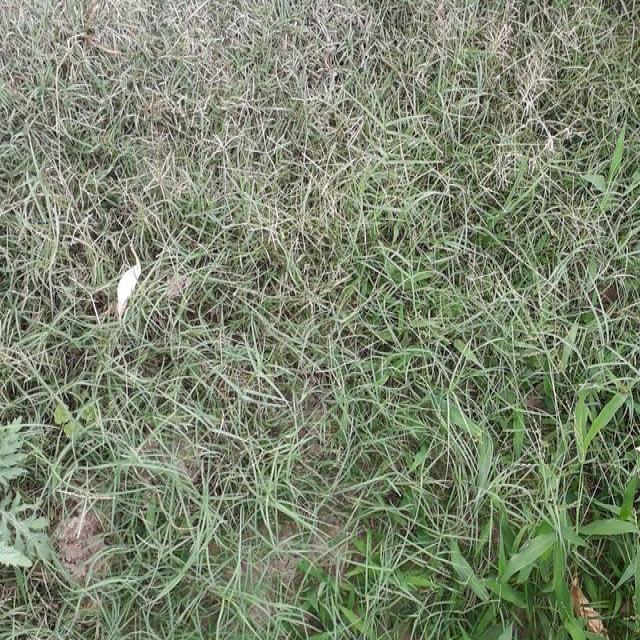weed: (282, 382, 640, 640), (2, 338, 96, 640)
